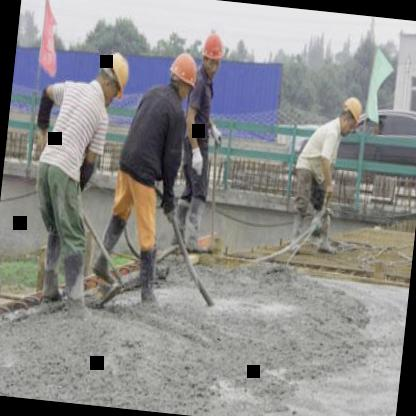helmet: (91, 47, 134, 107), (166, 47, 200, 102), (197, 27, 226, 78), (336, 92, 366, 134)
